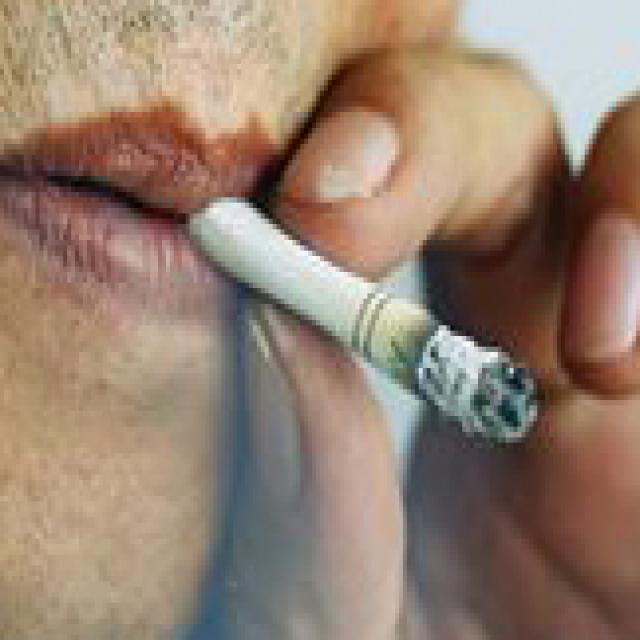smoking: (183, 197, 537, 445)
